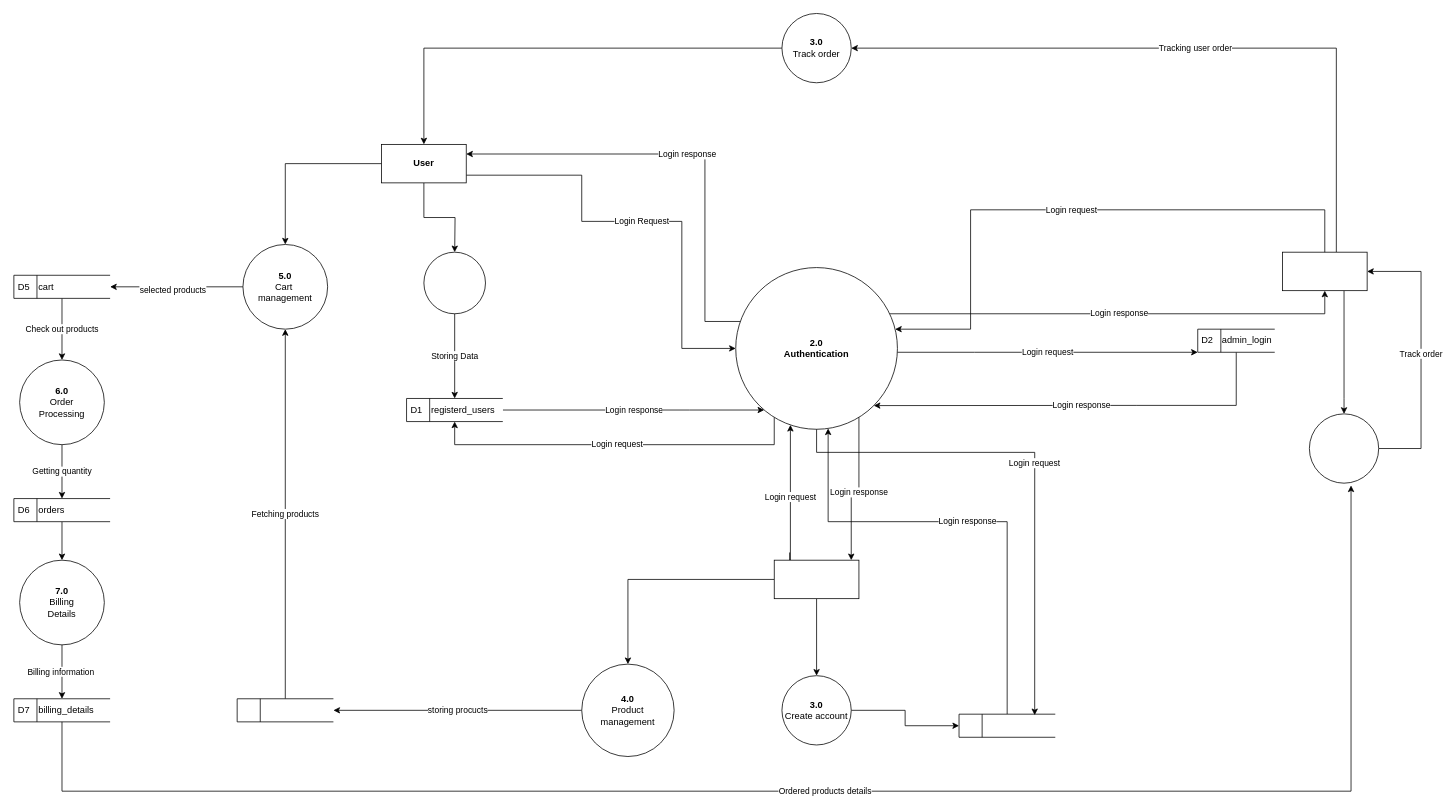
The diagram is 1455 pixels wide and 811 high, and some of its shapes have lost their labels. Each missing label, with the box of its shape:
1.0 Create account: (423, 251, 485, 314)
3.0 Manage order: (1309, 413, 1379, 483)
Admin: (1282, 251, 1367, 291)
D3 registerd_vendor: (958, 713, 1055, 737)
D4 products: (236, 698, 333, 722)
Vendor: (773, 559, 859, 599)
